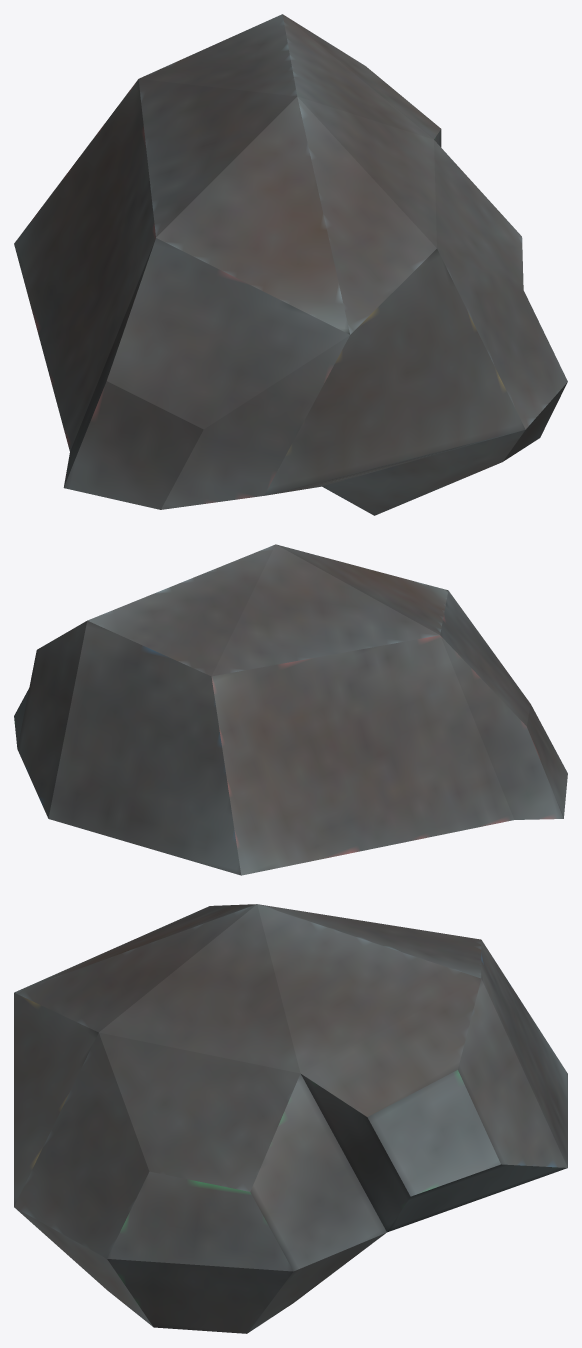
The model's file is rock01.obj.
The picture shows the model from 3 angles, top to bottom: view 1: azimuth 30°, elevation 25°; view 2: azimuth 150°, elevation 25°; view 3: azimuth 270°, elevation 25°; orthographic projection. The views are drawn at different scales.
Parts seen in each view (by area): view 1: sphere; view 2: sphere; view 3: sphere.
Boxes of the visible parts, x1,y1,x2,y2 form: sphere: (14,14,567,515); sphere: (14,544,567,875); sphere: (14,904,567,1333).
Size of the model in its own units: 1.29 by 0.9677 by 1.22.
Materials: 1 (1 with a texture image).
